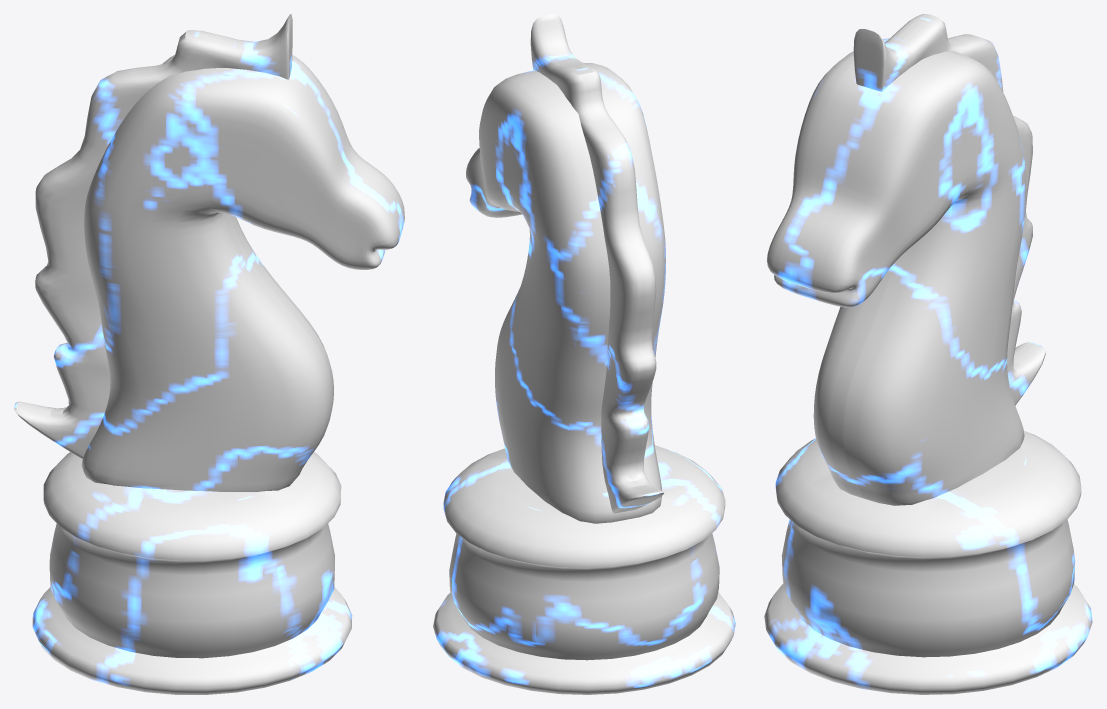
The model's file is WhiteKnight.glb.
3 renders of one model, left to right at view 1: azimuth 30°, elevation 25°; view 2: azimuth 150°, elevation 25°; view 3: azimuth 270°, elevation 25°, orthographic. The views are drawn at different scales.
Parts seen in each view (by area): view 1: Knight.002; view 2: Knight.002; view 3: Knight.002.
Boxes of the visible parts, left/top/right/bottom form: Knight.002: left=14, top=14, right=404, bottom=694; Knight.002: left=433, top=14, right=735, bottom=694; Knight.002: left=764, top=14, right=1092, bottom=694.
Bounding box in the file's own units: 0.2114 × 0.412 × 0.1922.
1 material, 1 textured.
